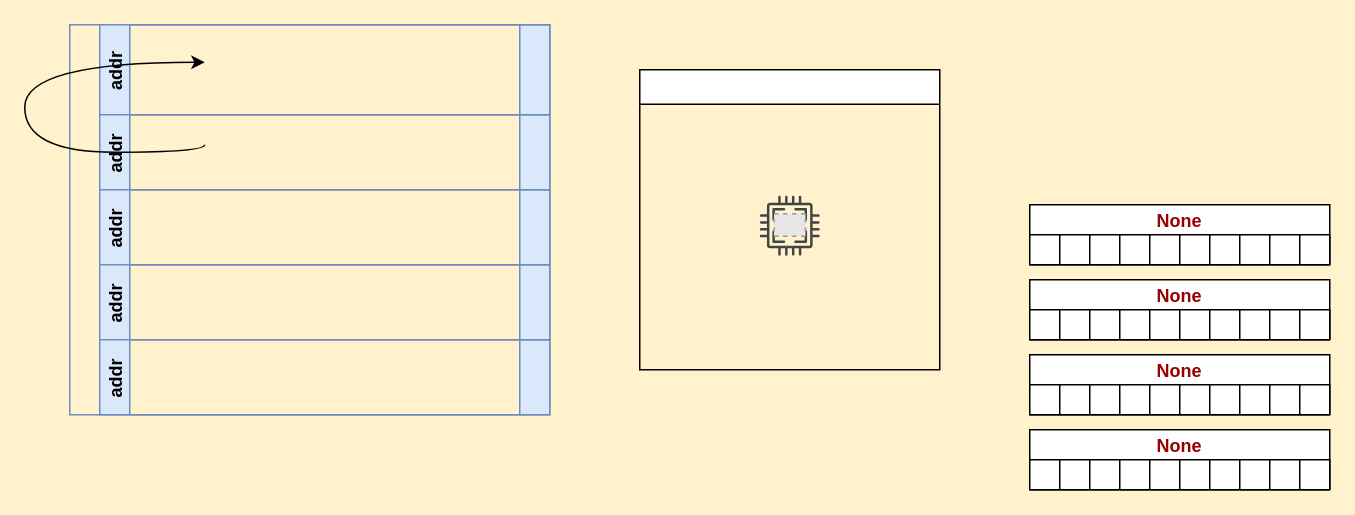
This 1355x515 diagram has some shape labels left out. Grey dashed boxes stand in for pictures. Here are the shapes that lost their labels. From the top down, the box of each, then its label:
(68, 23, 550, 415): memory
(638, 68, 940, 370): computer - ВЫЧИЛИТЕЛЬ
